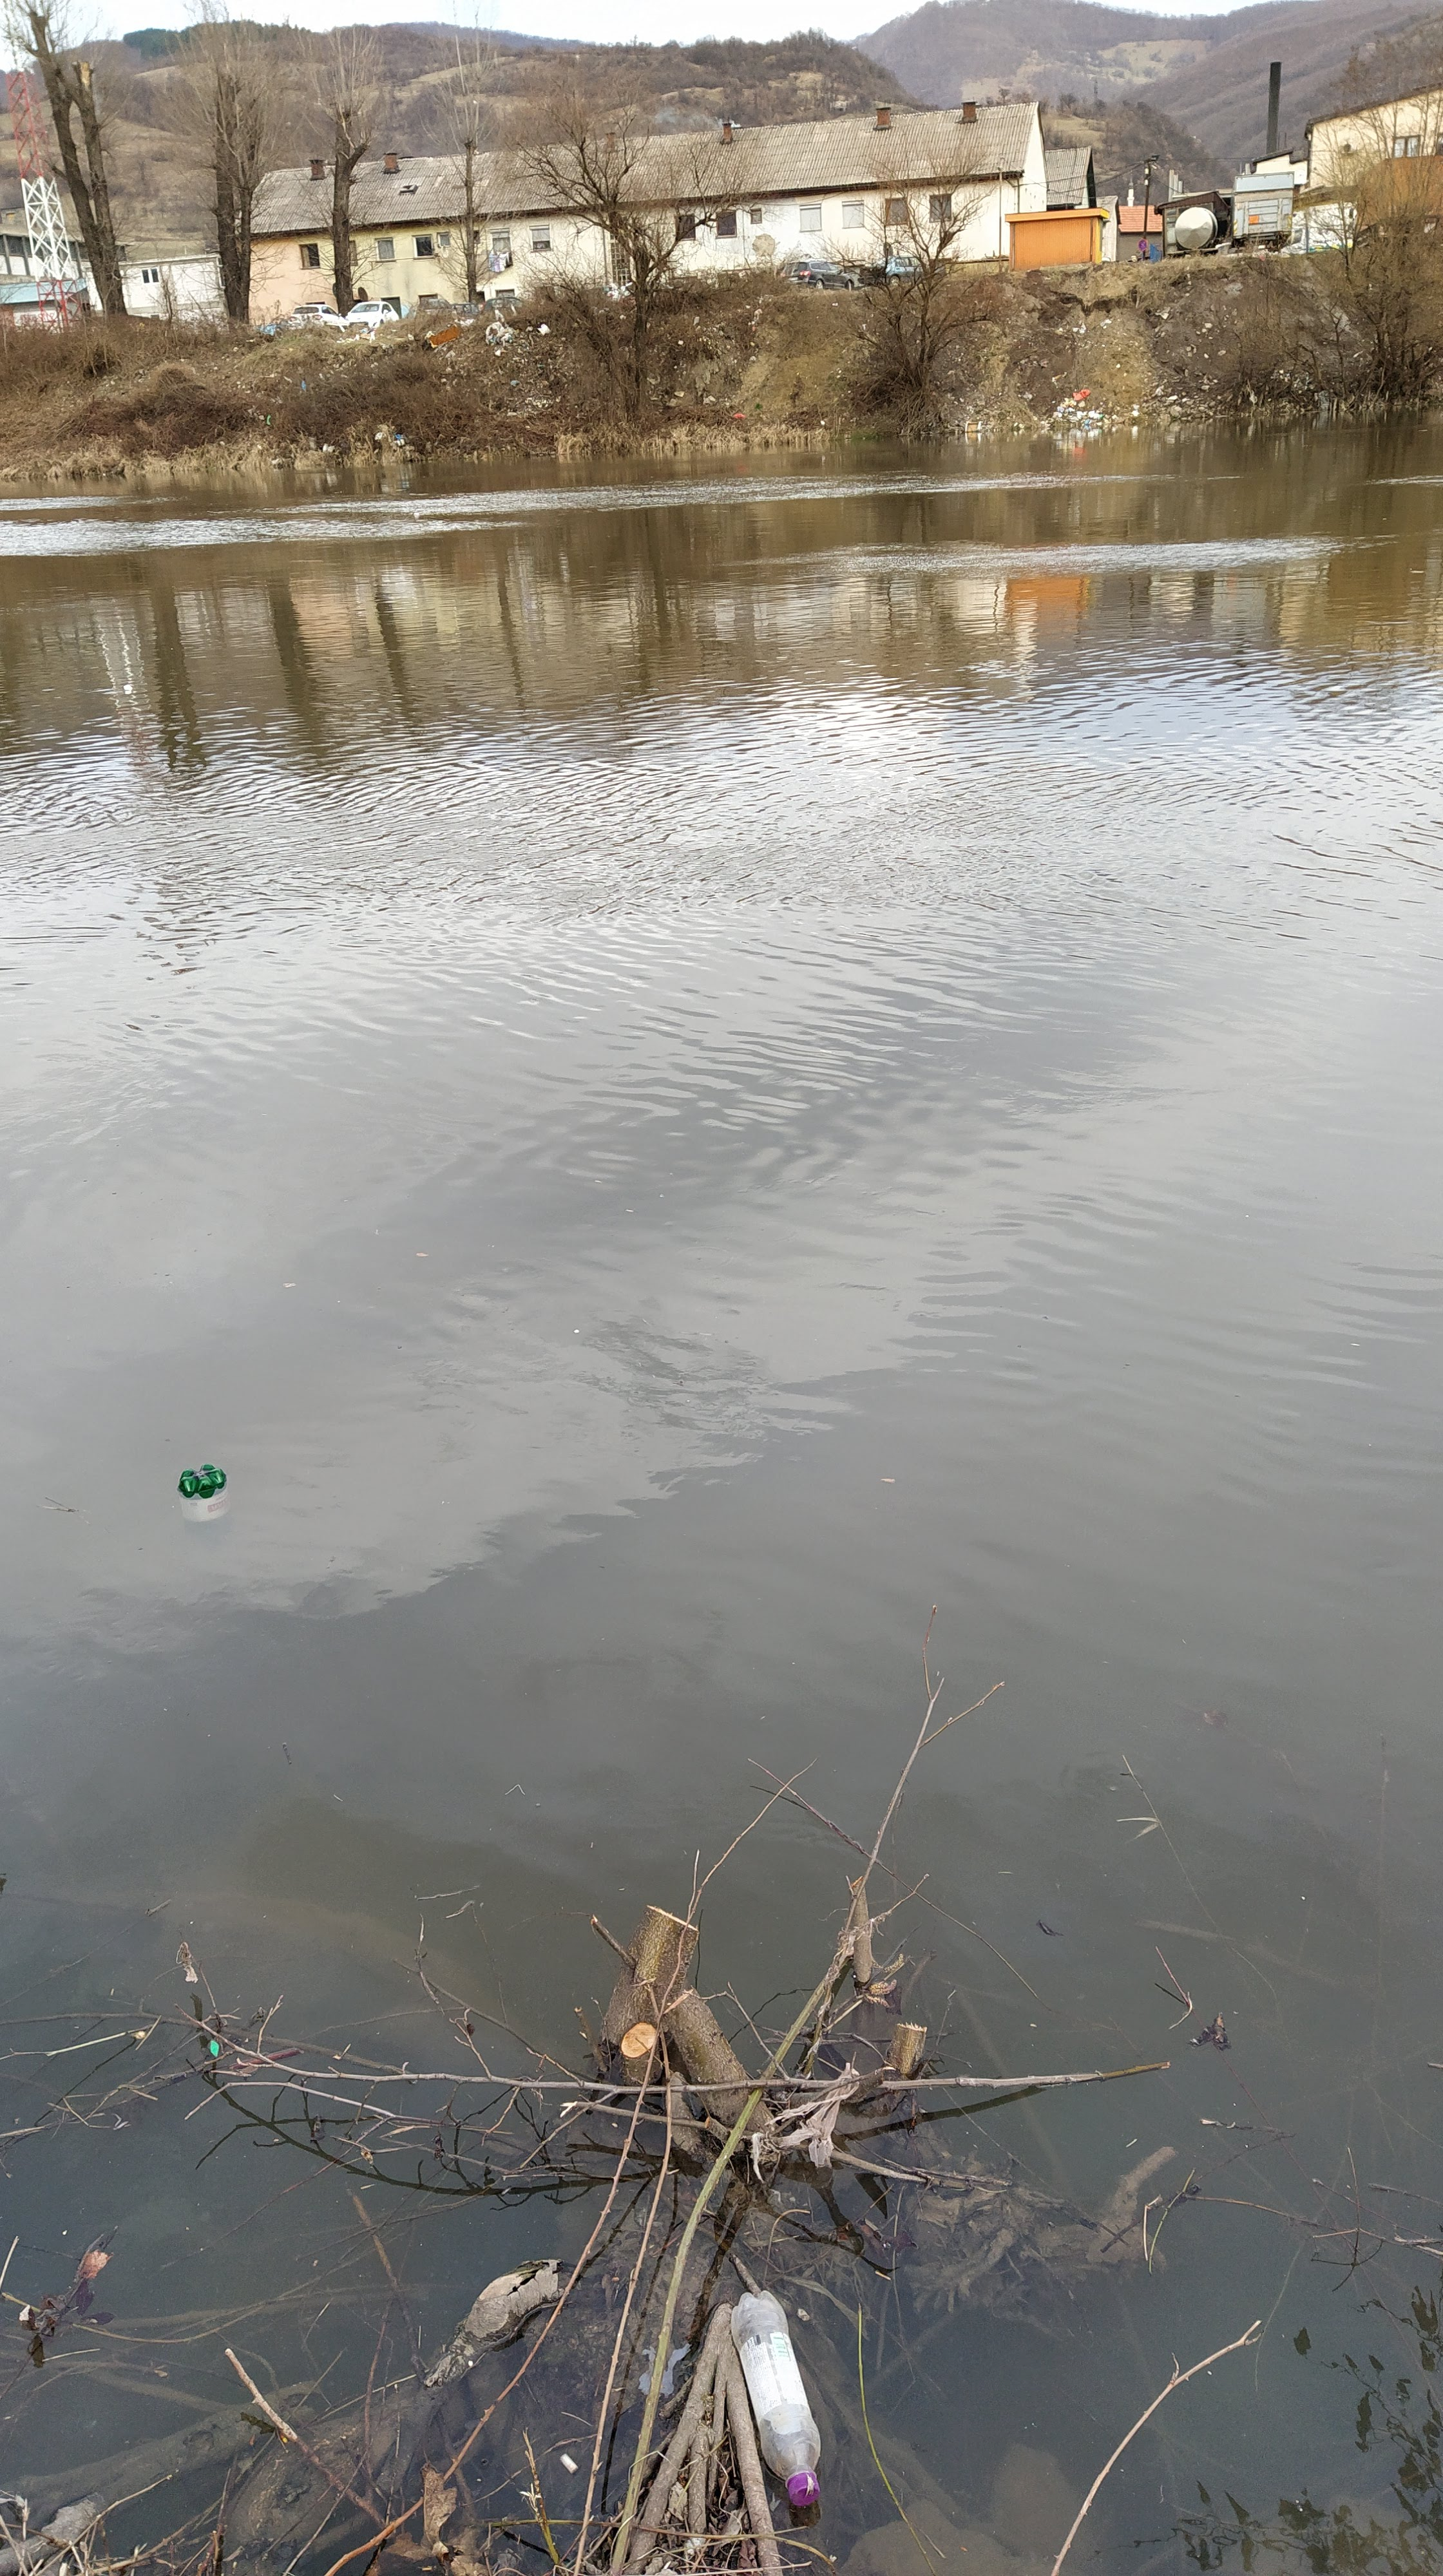Plastic Bottle: (731, 2289, 822, 2505), (177, 1463, 227, 1499)
